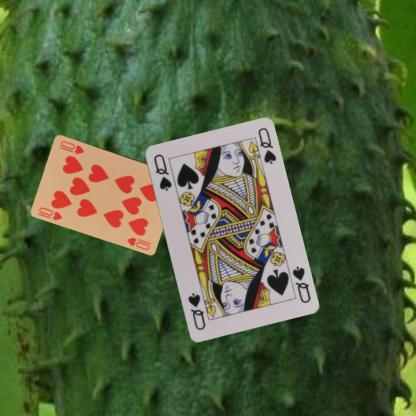10h: (37, 204, 64, 221)
Qs: (151, 151, 173, 192), (289, 263, 311, 304)
